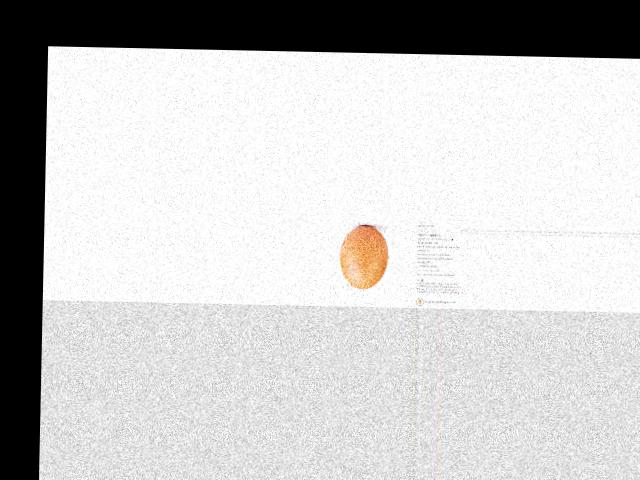egg: (339, 225, 389, 289)
